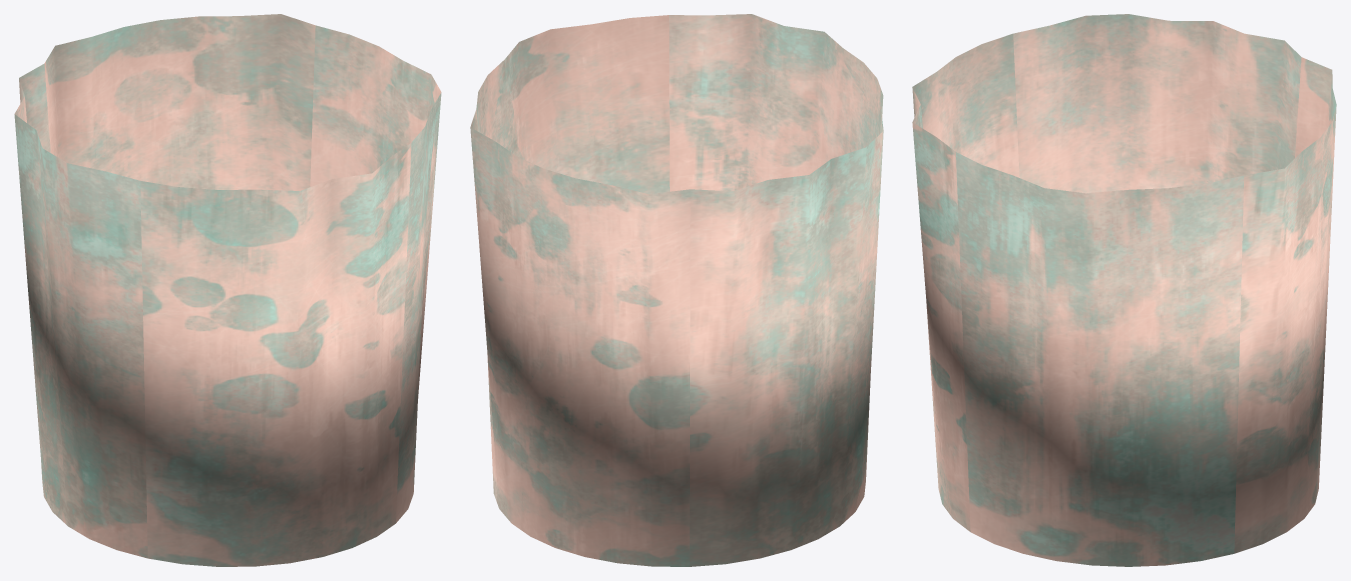
File: FM-00 Open Vat.fbx
3 renders of one model, left to right at view 1: azimuth 30°, elevation 25°; view 2: azimuth 150°, elevation 25°; view 3: azimuth 270°, elevation 25°, orthographic.
Parts seen in each view (by area): view 1: FM-00 Open Vat; view 2: FM-00 Open Vat; view 3: FM-00 Open Vat.
Boxes of the visible parts, x1,y1,x2,y2 form: FM-00 Open Vat: (14, 14, 441, 566); FM-00 Open Vat: (470, 14, 883, 566); FM-00 Open Vat: (912, 14, 1336, 566).
Size of the model in its own units: 200 by 200 by 200.
